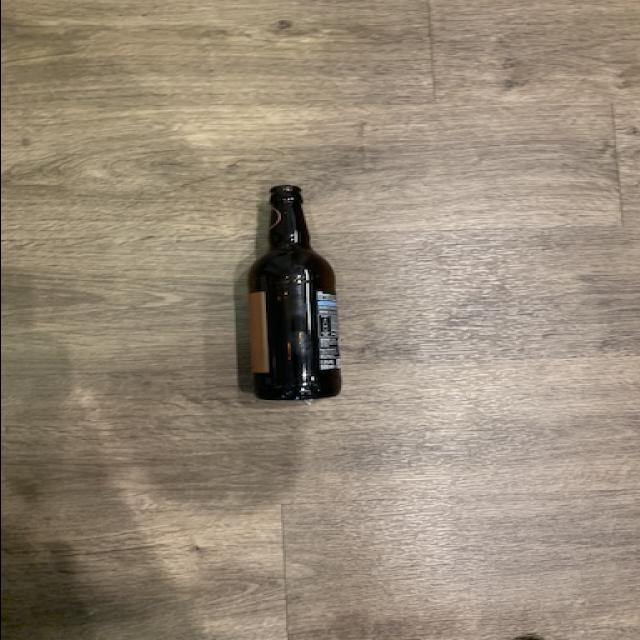Glass Bottle: (247, 185, 341, 403)
